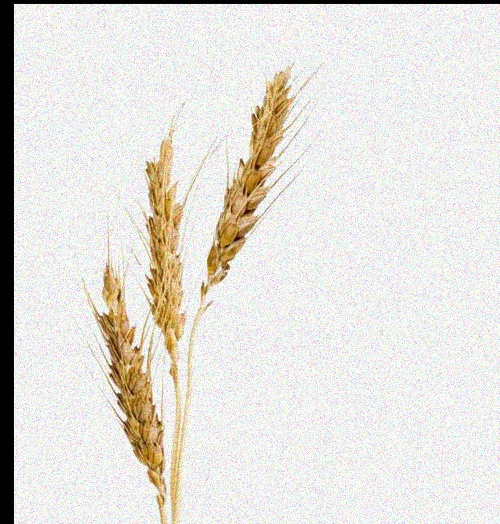wheat: (195, 43, 332, 336), (63, 247, 169, 493), (140, 116, 186, 382)
